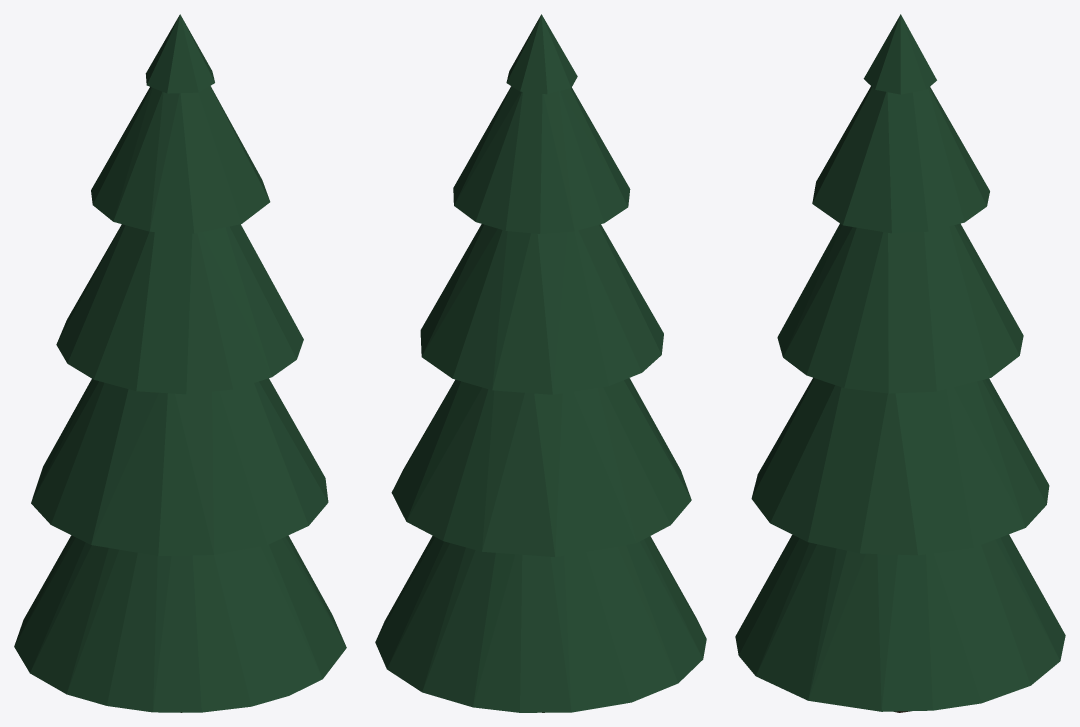
Rendered from tree13.fbx.
3 renders of one model, left to right at view 1: azimuth 30°, elevation 25°; view 2: azimuth 150°, elevation 25°; view 3: azimuth 270°, elevation 25°, orthographic.
Parts seen in each view (by area): view 1: treetype13; view 2: treetype13; view 3: treetype13.
Part boxes in pixels (left/top/right/bottom): treetype13: left=14, top=14, right=346, bottom=712; treetype13: left=375, top=14, right=706, bottom=712; treetype13: left=735, top=14, right=1065, bottom=712.
Size of the model in its own units: 73.02 by 169 by 73.03.
